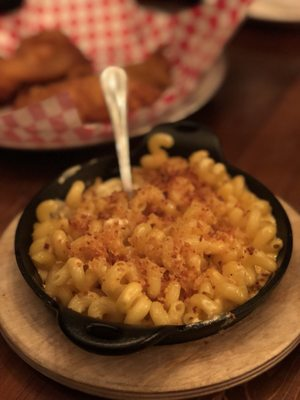sushi: (16, 145, 292, 355)
